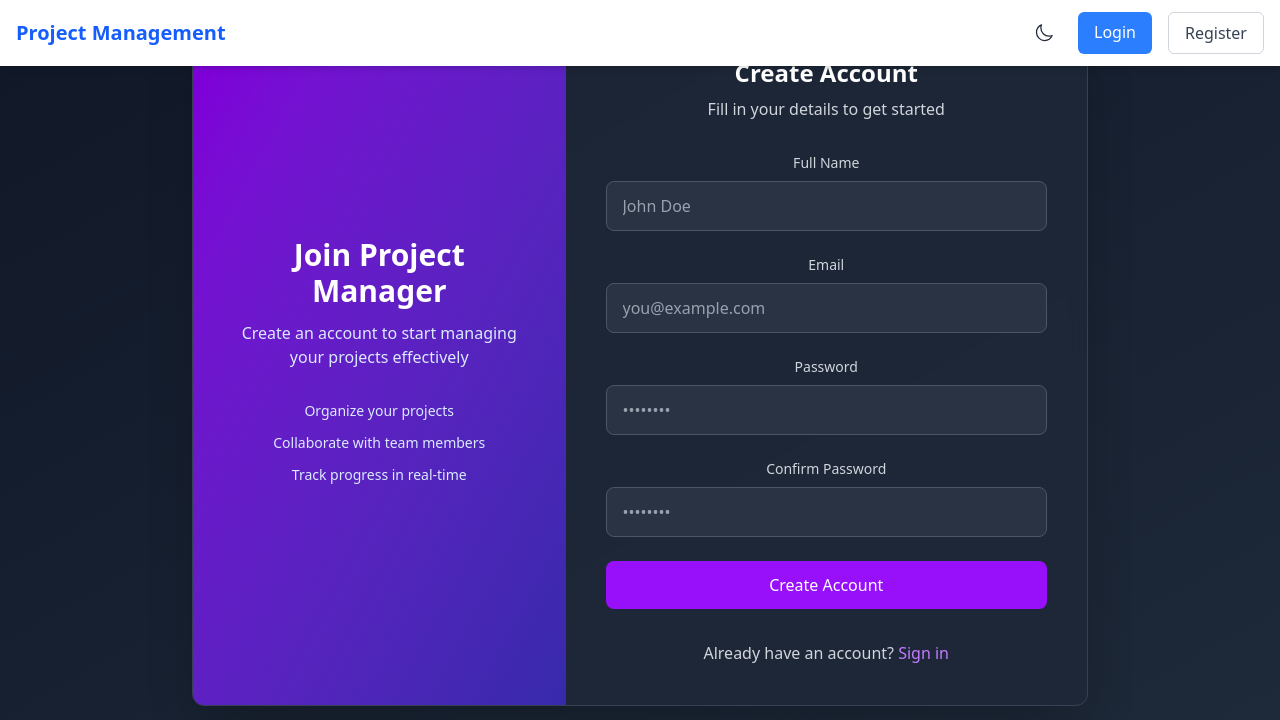
Test: Authentication Tests › Registration Page › should register a new user successfully
The width and height of the screenshot is (1280, 720).
Type "New User" into the field with id "name".
click(827, 206); type("New User")  # box [606, 181, 1048, 231]
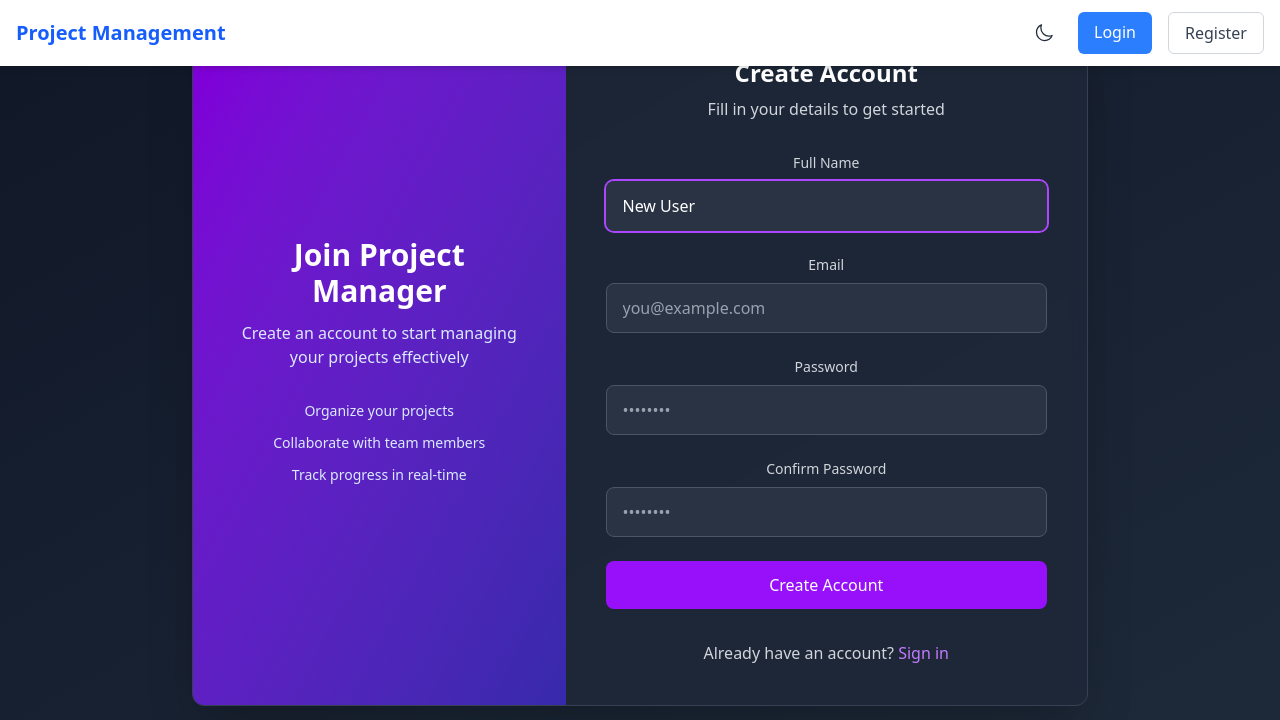
Type "newuser@example.com" into the field with id "email".
click(827, 308); type("newuser@example.com")  # box [606, 283, 1048, 333]
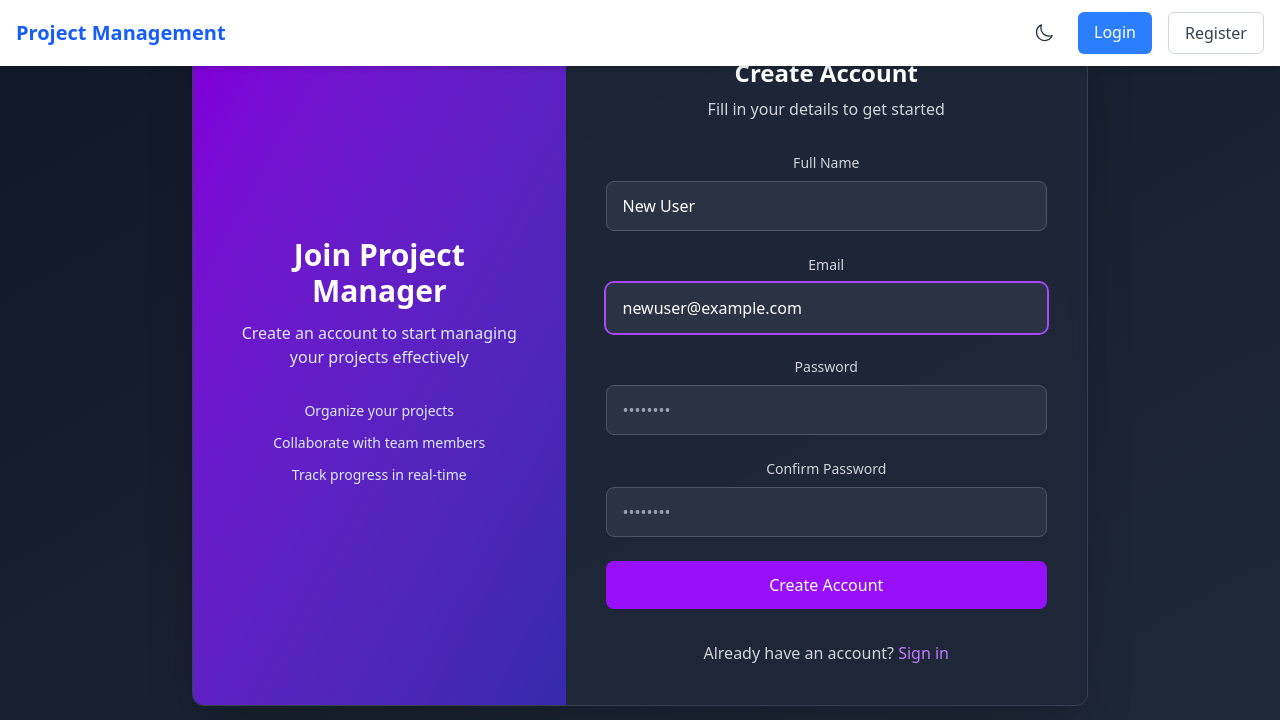
Type "password123" into the password field labelled "Password".
click(827, 410); type("password123")  # box [606, 385, 1048, 435]
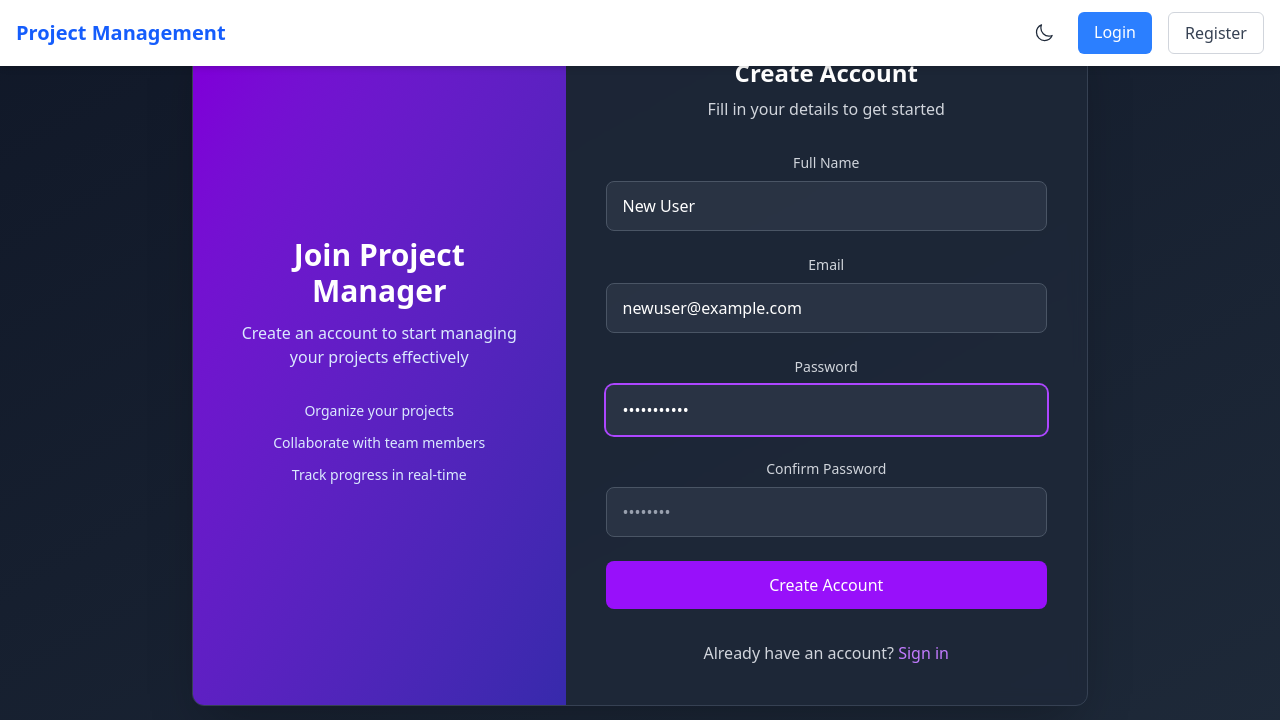
Type "password123" into the password field with id "confirmPassword".
click(827, 512); type("password123")  # box [606, 487, 1048, 537]
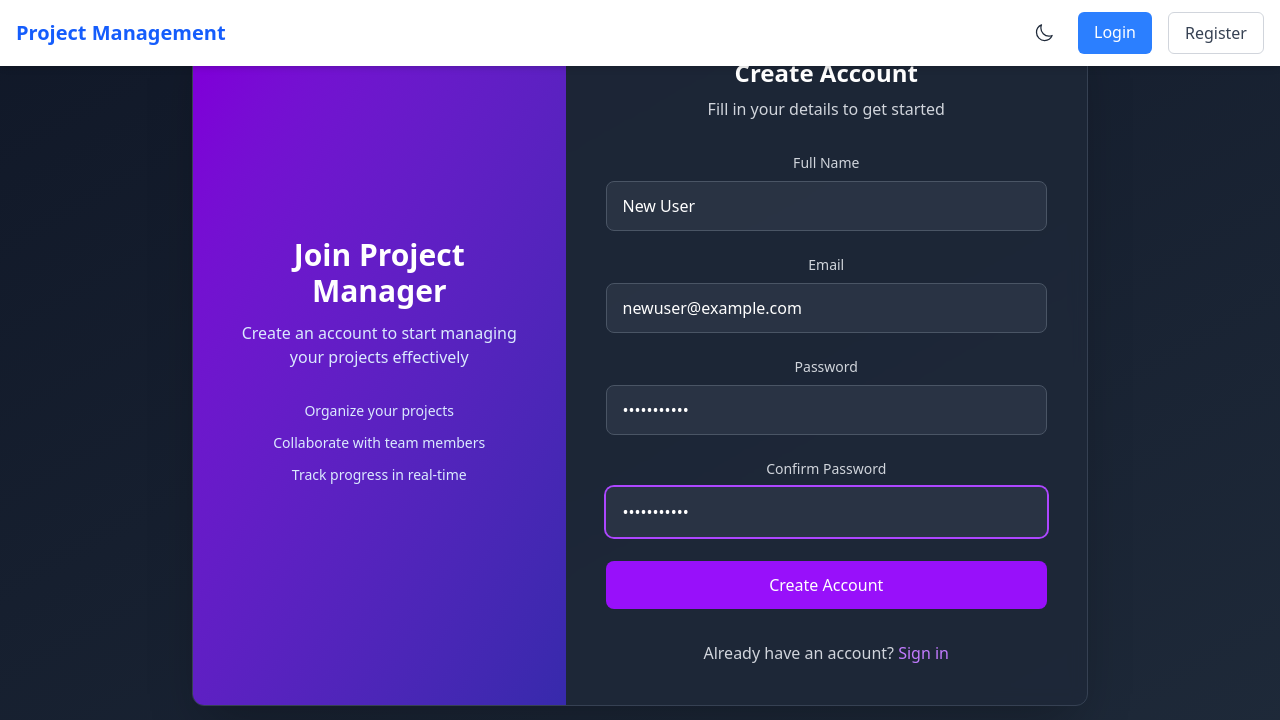
Click the button "Create Account".
click(827, 585)  # box [606, 561, 1048, 609]
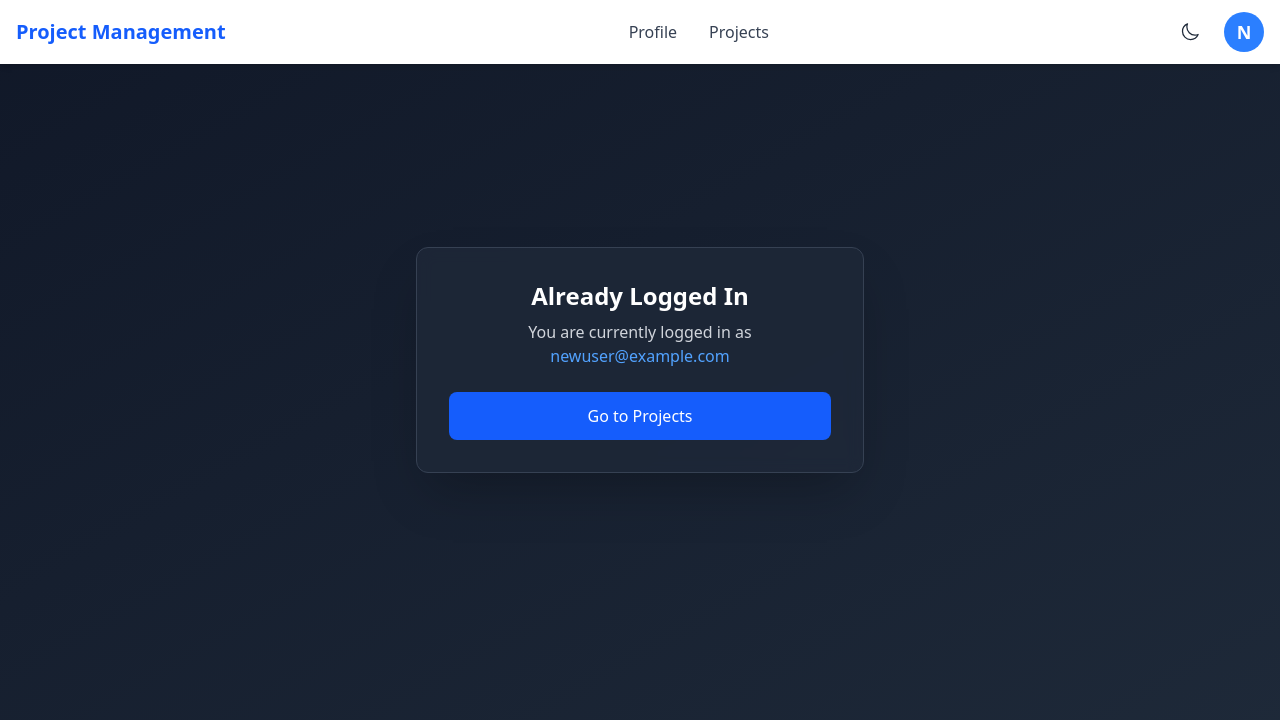
Check: the link "Go to Projects" is shown, box [449, 392, 831, 440]
